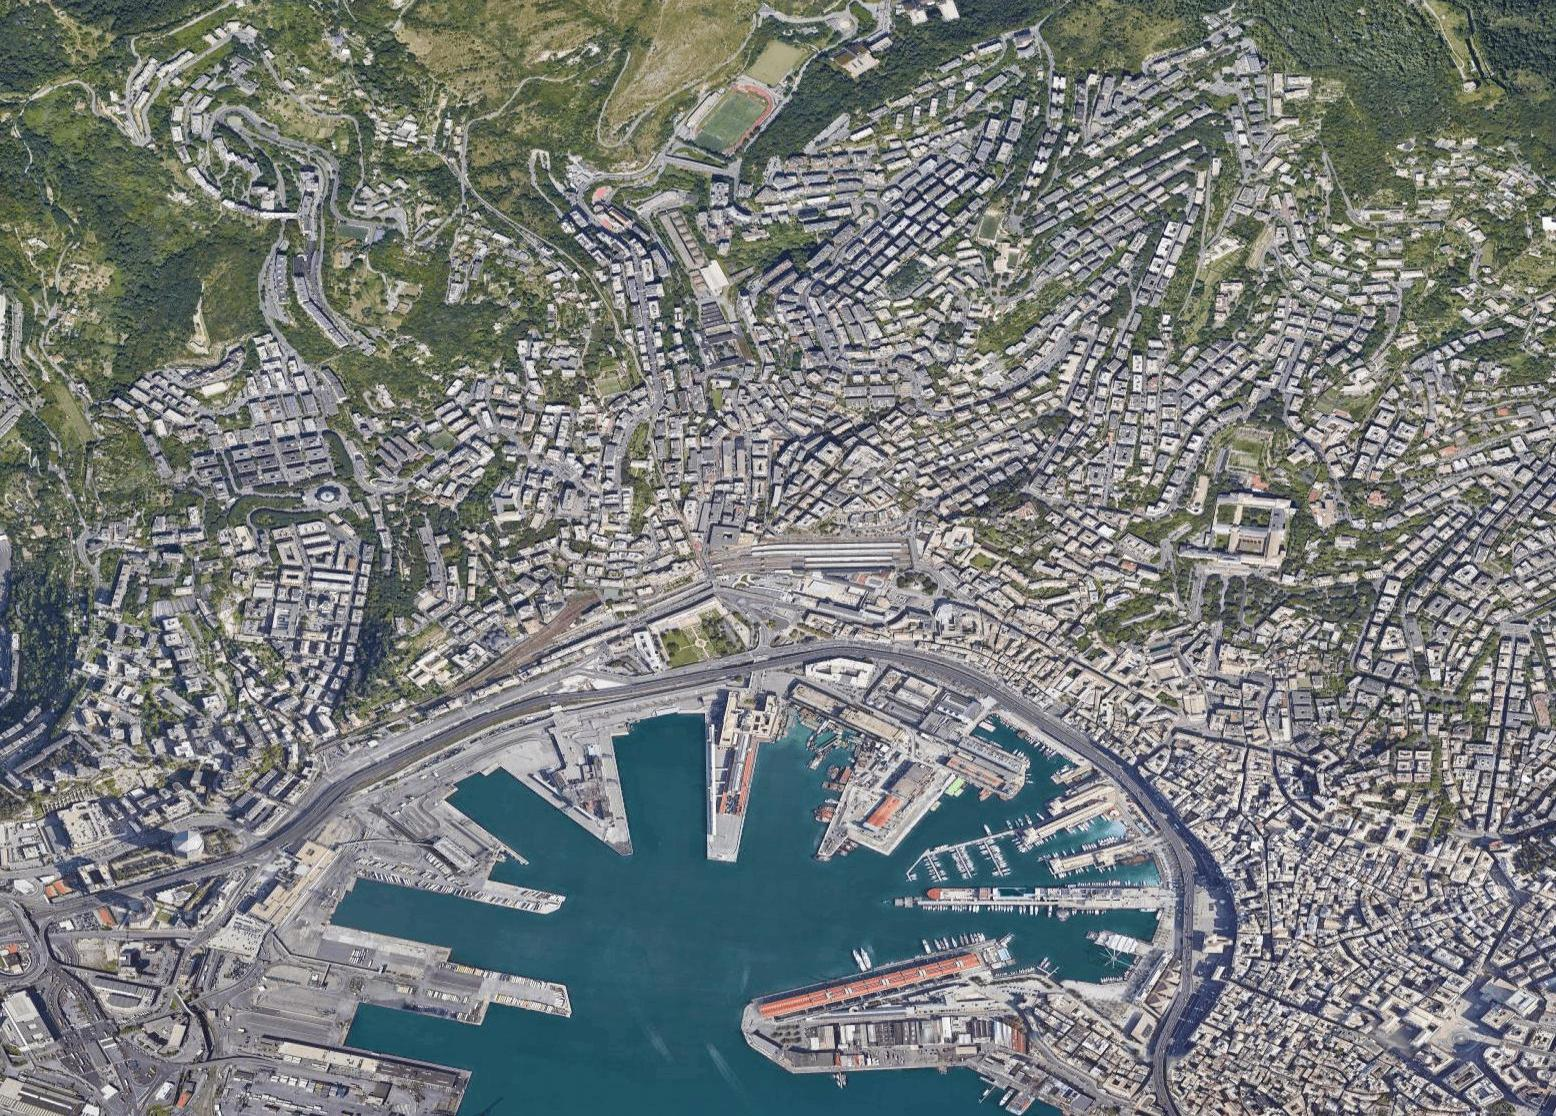harbor: (291, 682, 1163, 1116)
motorway: (391, 694, 538, 774), (1117, 773, 1204, 899), (998, 688, 1117, 779), (295, 750, 389, 835), (538, 674, 708, 716), (706, 637, 876, 679), (878, 634, 997, 692), (179, 825, 292, 884), (50, 872, 178, 922), (1, 889, 53, 984), (1167, 899, 1204, 1021), (1150, 1015, 1181, 1116)
train_station: (754, 527, 927, 589)
